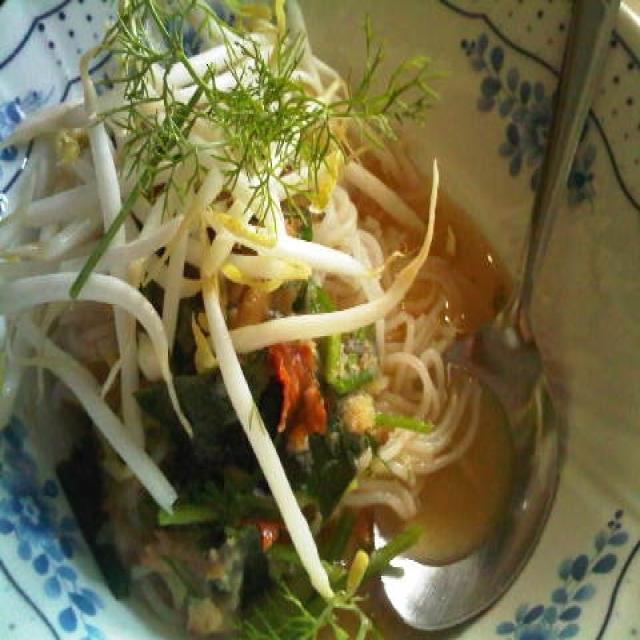面条主食: (12, 7, 621, 629)
